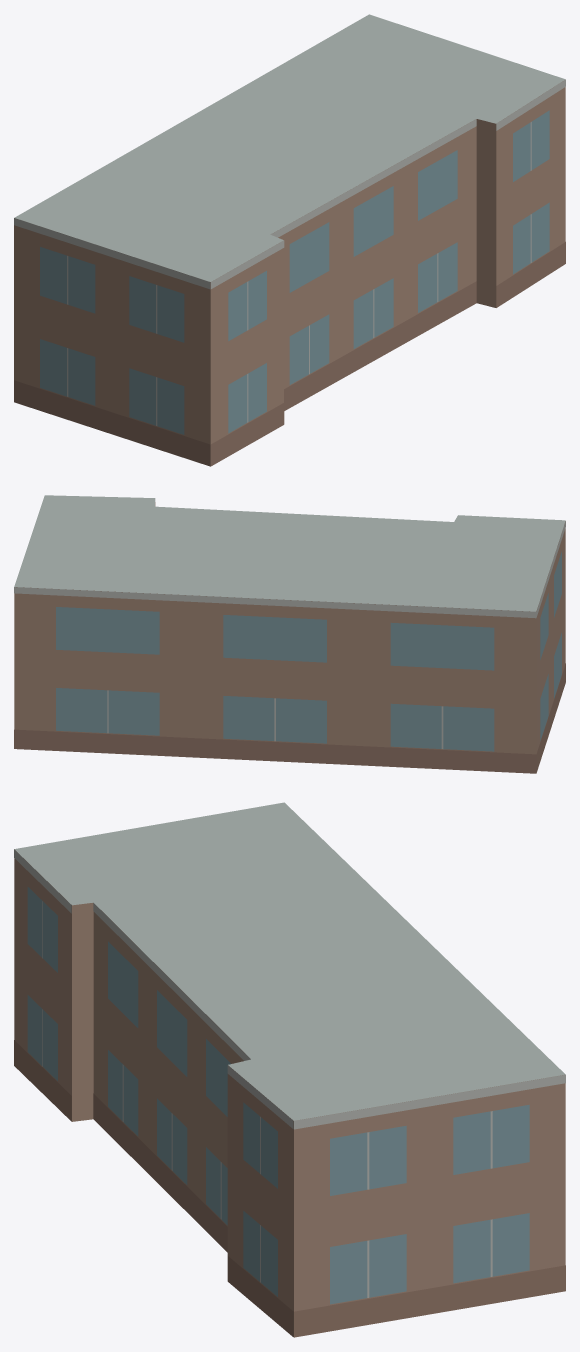
File: survey-upis-32964504.glb
3 renders of one model, top to bottom at view 1: azimuth 30°, elevation 25°; view 2: azimuth 150°, elevation 25°; view 3: azimuth 270°, elevation 25°, orthographic. The views are drawn at different scales.
Parts seen in each view (by area): view 1: survey-upis-32964504.tmp; view 2: survey-upis-32964504.tmp; view 3: survey-upis-32964504.tmp.
Part boxes in pixels (x1,y1,x2,y2): survey-upis-32964504.tmp: (14, 14, 565, 466); survey-upis-32964504.tmp: (14, 495, 565, 773); survey-upis-32964504.tmp: (14, 802, 565, 1337).
Bounding box in the file's own units: 19.25 × 6.1 × 14.09.
